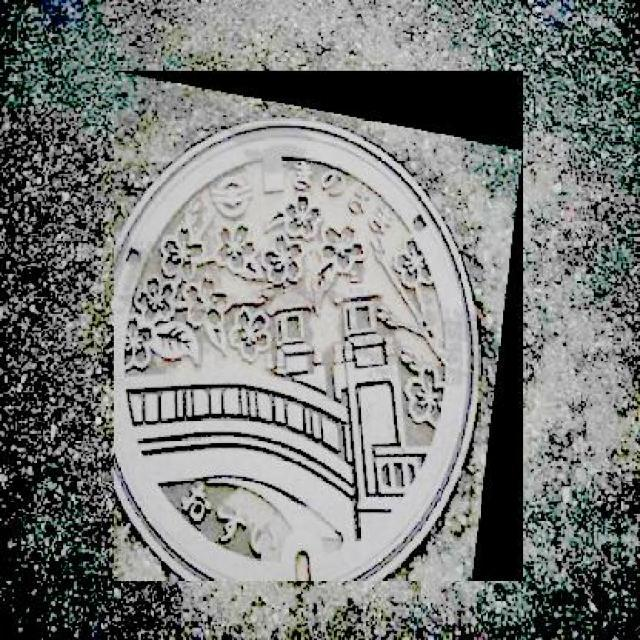Manhole: (114, 71, 523, 580)
